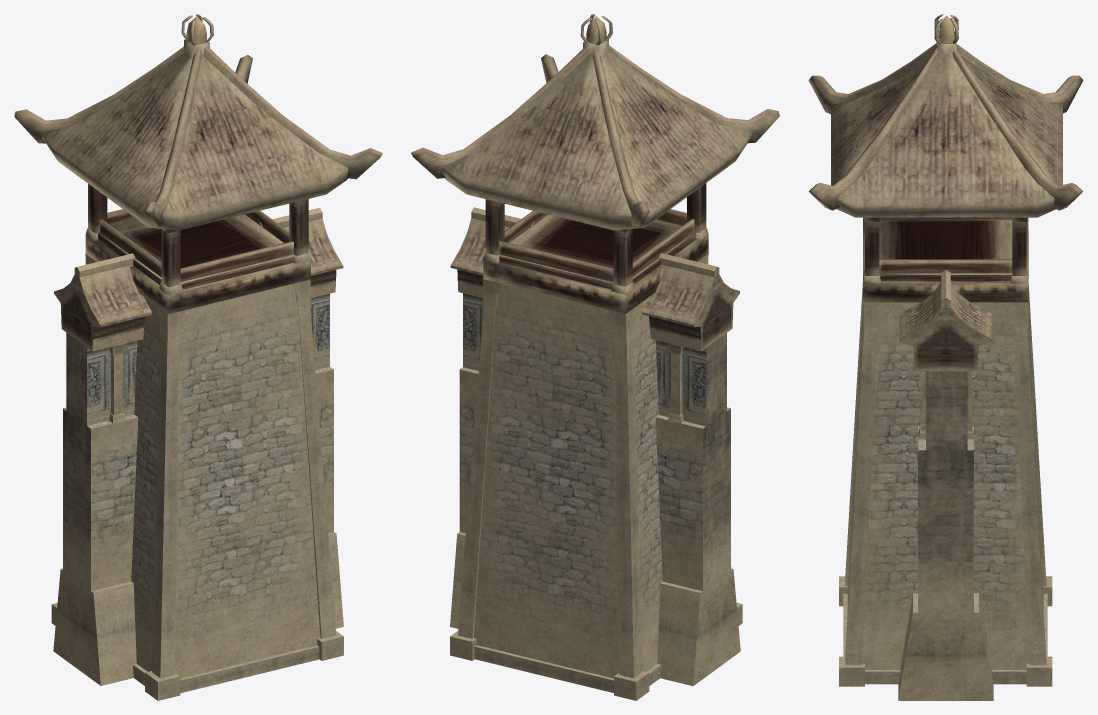
The model's file is desert-middledam-07.fbx.
3 views of the same model, side by side, from view 1: azimuth 30°, elevation 25°; view 2: azimuth 150°, elevation 25°; view 3: azimuth 270°, elevation 25° (orthographic).
Visible parts, largest first — view 1: desert-middledam-03, desert-middledam-02, desert-middledam-04; view 2: desert-middledam-03, desert-middledam-02, desert-middledam-04; view 3: desert-middledam-03, desert-middledam-02, desert-middledam-04.
Part boxes in pixels (left/top/right/bottom): desert-middledam-03: left=42, top=14, right=347, bottom=700; desert-middledam-02: left=53, top=207, right=343, bottom=685; desert-middledam-04: left=14, top=46, right=382, bottom=314; desert-middledam-03: left=442, top=14, right=751, bottom=700; desert-middledam-02: left=450, top=207, right=740, bottom=685; desert-middledam-04: left=411, top=45, right=779, bottom=313; desert-middledam-03: left=831, top=14, right=1062, bottom=686; desert-middledam-02: left=898, top=270, right=993, bottom=700; desert-middledam-04: left=808, top=43, right=1083, bottom=302.
Bounding box in the file's own units: 5.02 × 12.29 × 4.9.
